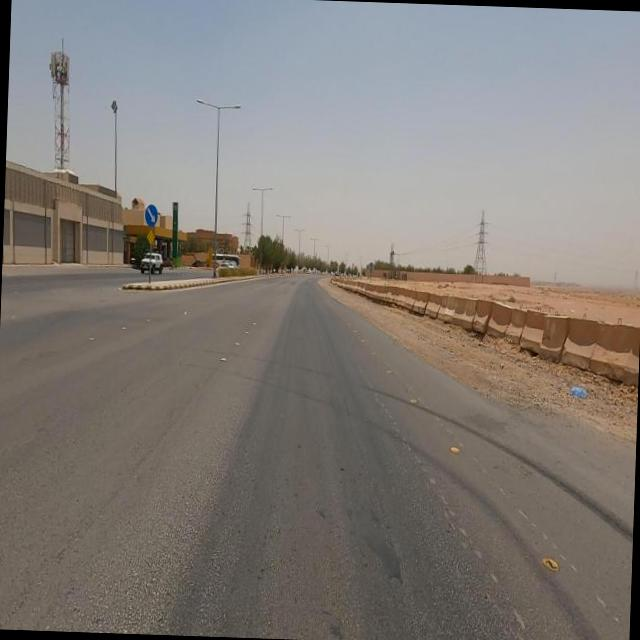debris: (517, 330, 637, 460)
